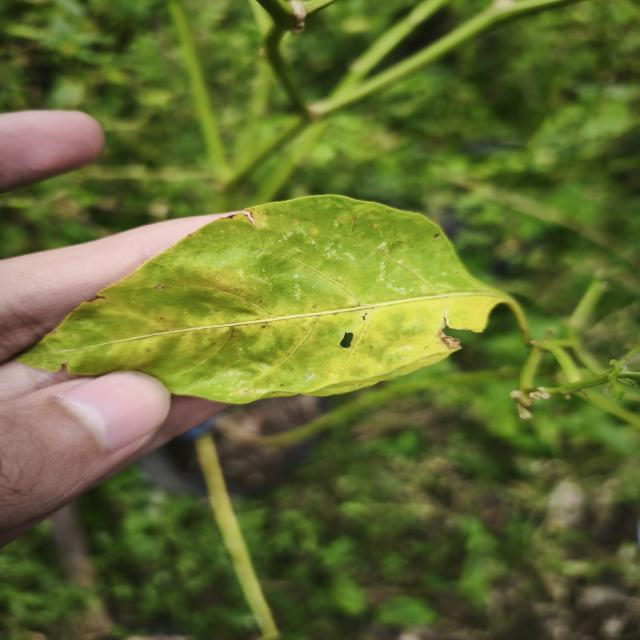Virus Kuning: (13, 192, 505, 406)
